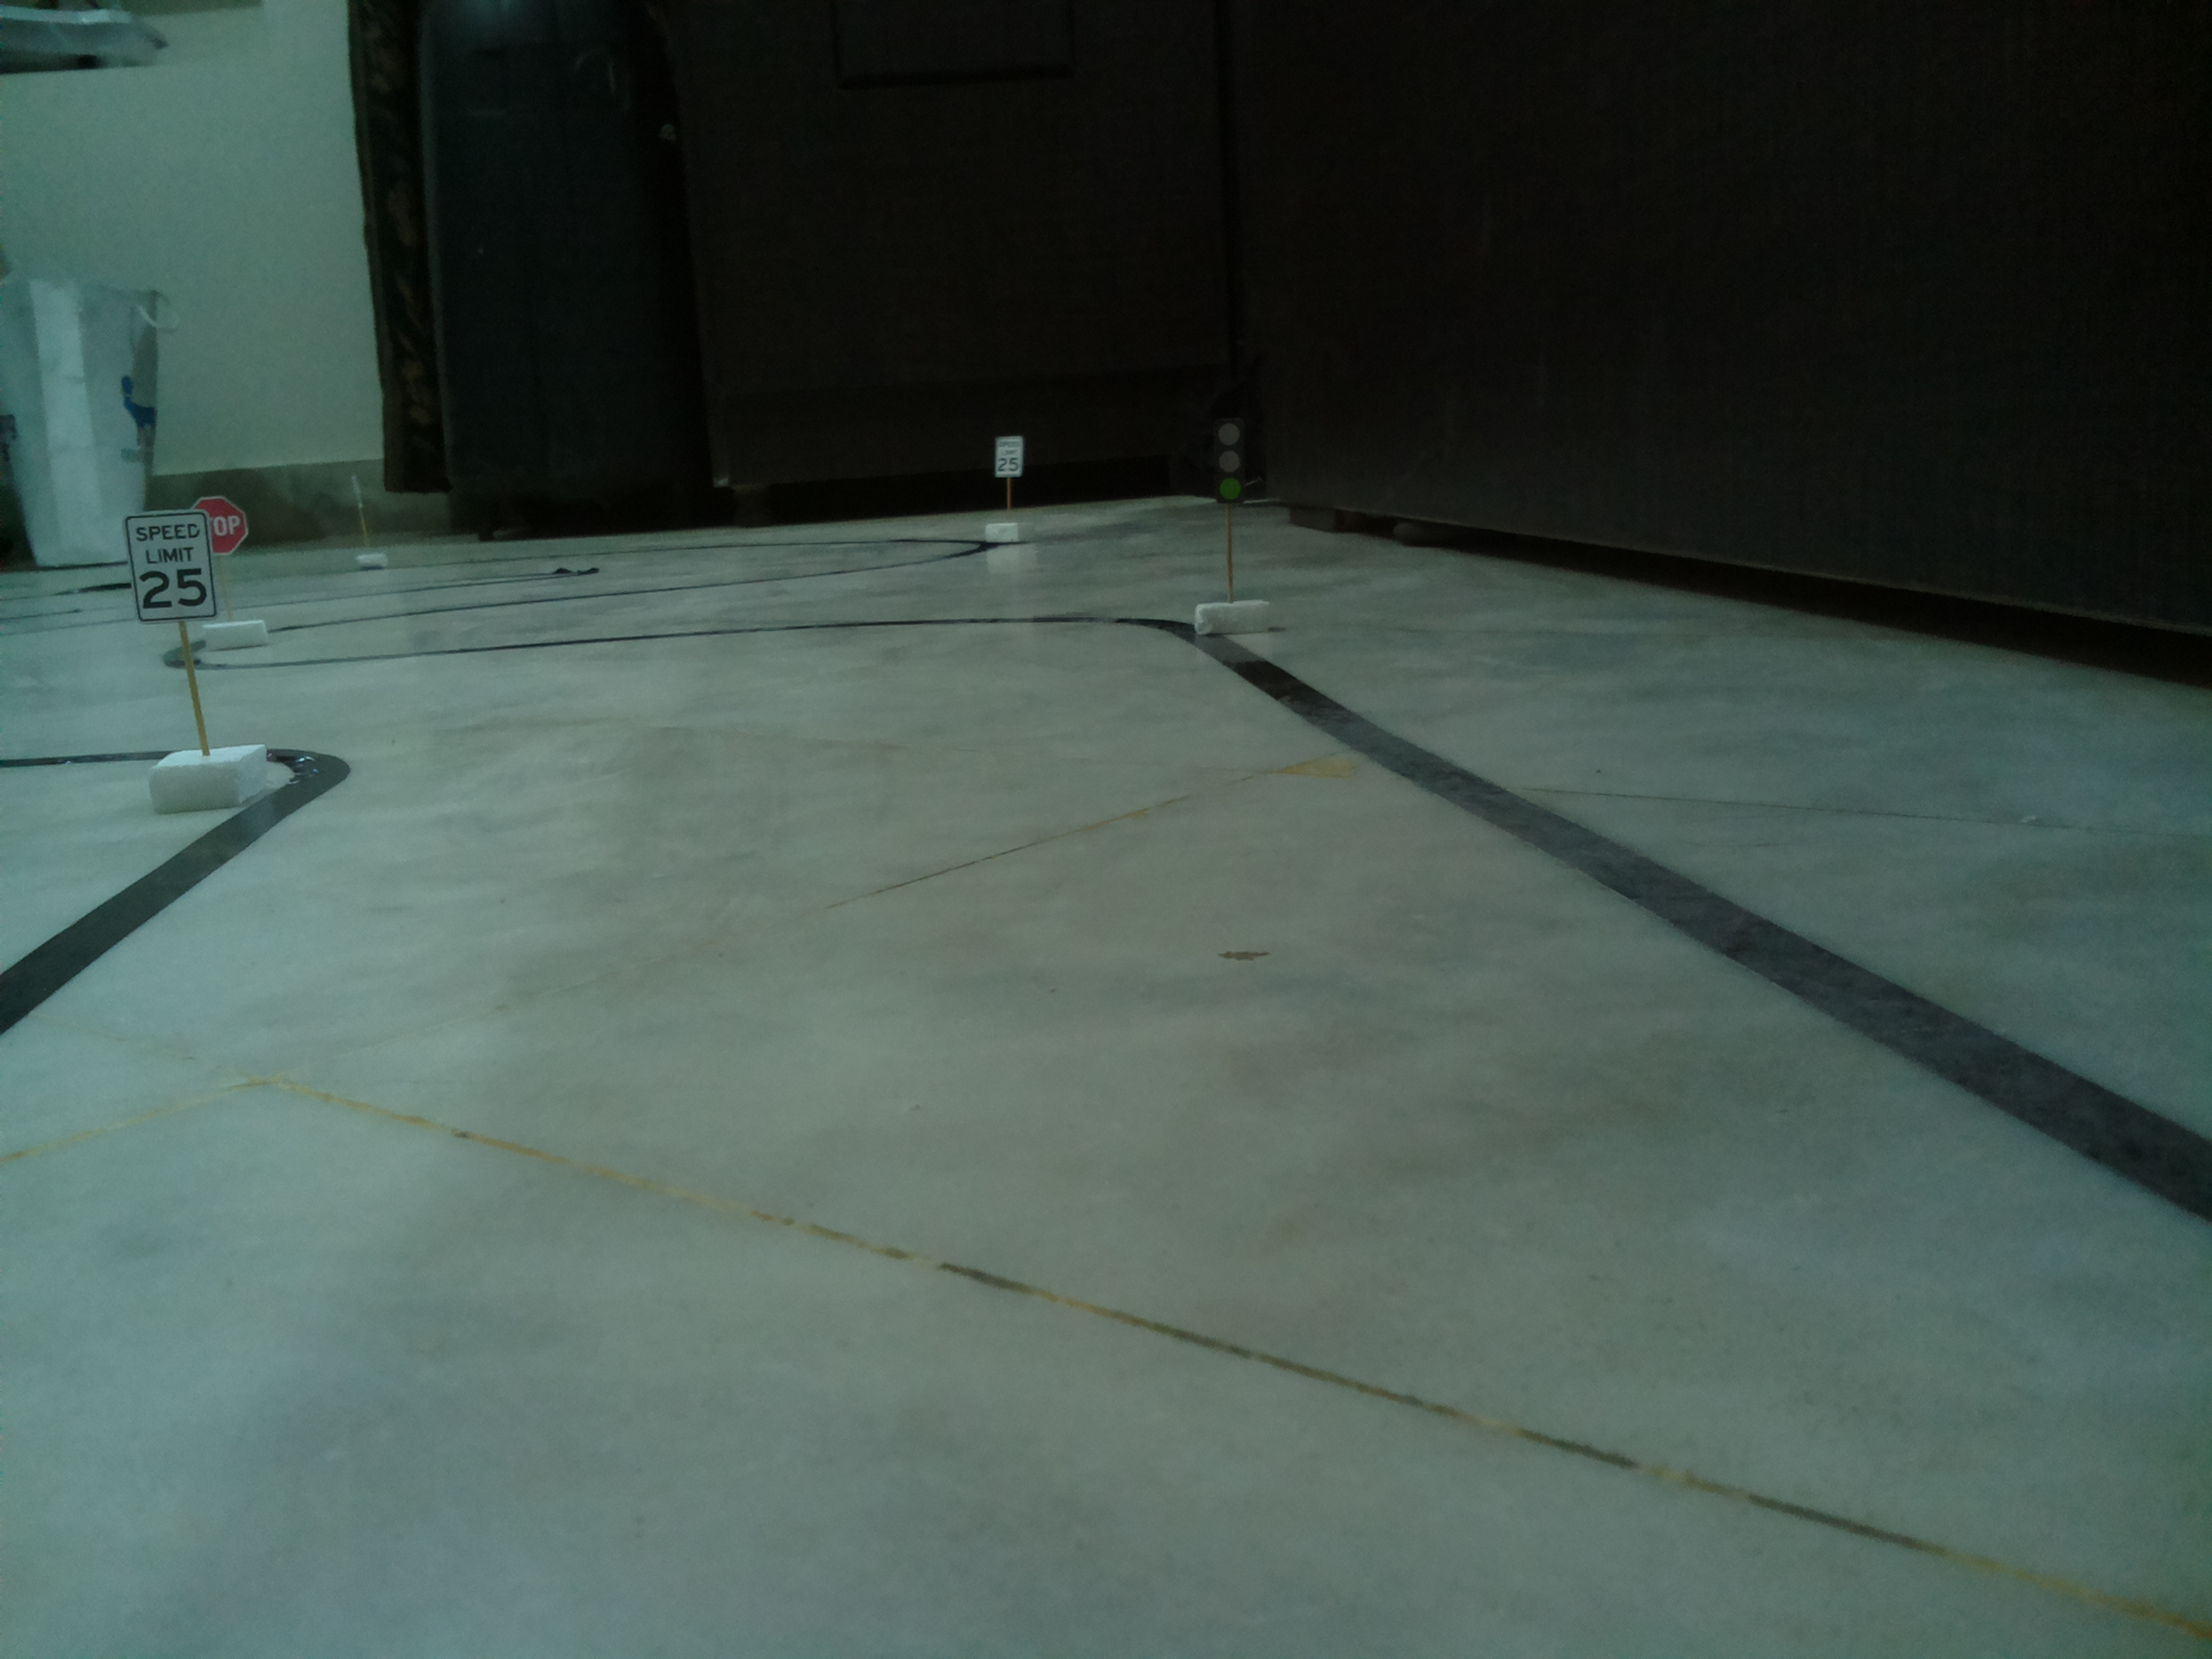Green traffic light: (1207, 422, 1252, 507)
Speed limit 25: (124, 512, 218, 624)
